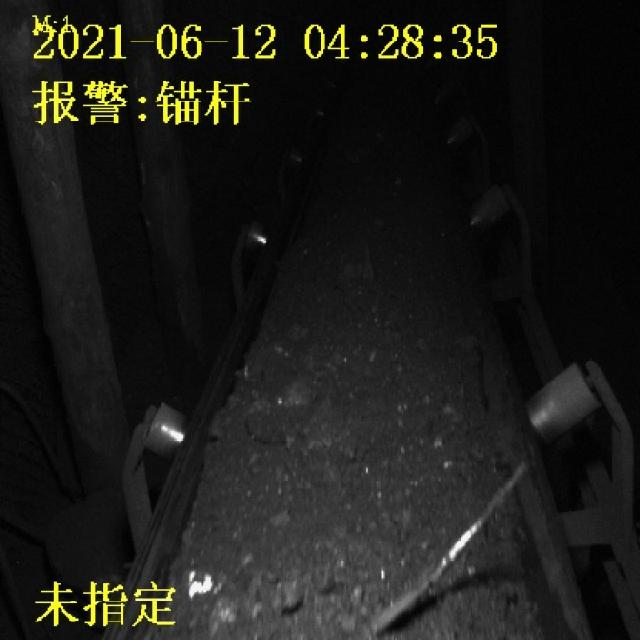bolt: (360, 474, 532, 637)
large_sized_coal: (205, 580, 303, 637), (335, 248, 374, 298), (277, 371, 315, 409), (274, 322, 308, 358)
